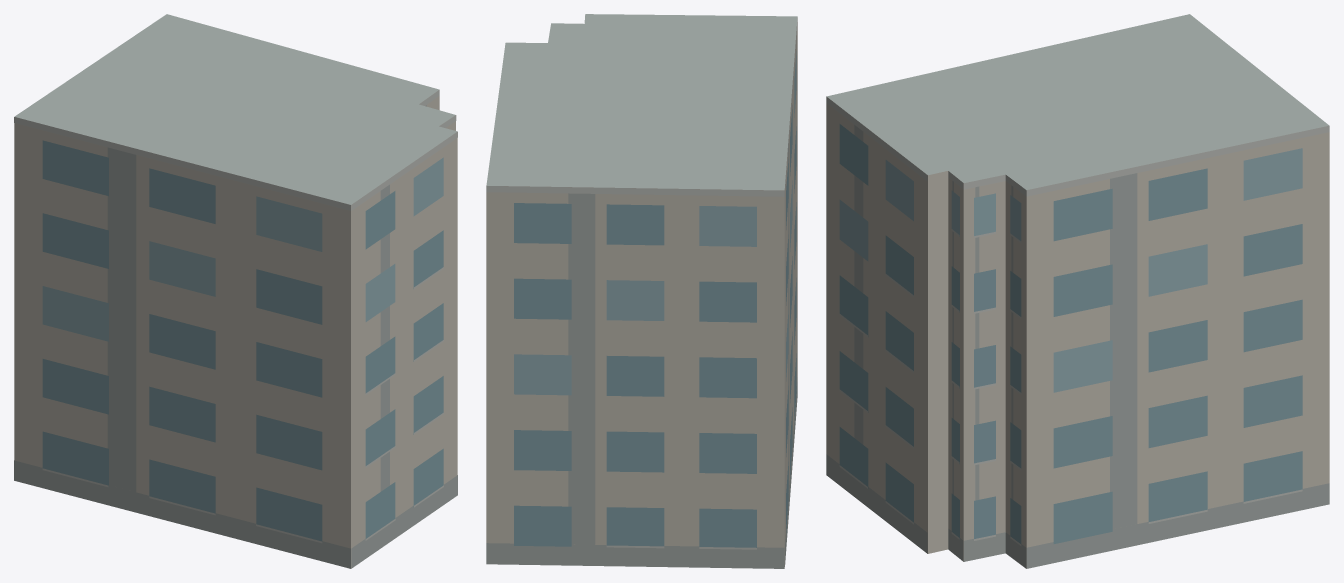
Rendered from survey-upis-32891459.glb.
3 renders of one model, left to right at view 1: azimuth 30°, elevation 25°; view 2: azimuth 150°, elevation 25°; view 3: azimuth 270°, elevation 25°, orthographic. The views are drawn at different scales.
Parts seen in each view (by area): view 1: survey-upis-32891459.tmp; view 2: survey-upis-32891459.tmp; view 3: survey-upis-32891459.tmp.
Boxes of the visible parts, bbox=[...] form: survey-upis-32891459.tmp: bbox=[14, 14, 457, 568]; survey-upis-32891459.tmp: bbox=[486, 14, 797, 568]; survey-upis-32891459.tmp: bbox=[826, 14, 1329, 568].
Bounding box in the file's own units: 14.38 × 14.4 × 17.35.
